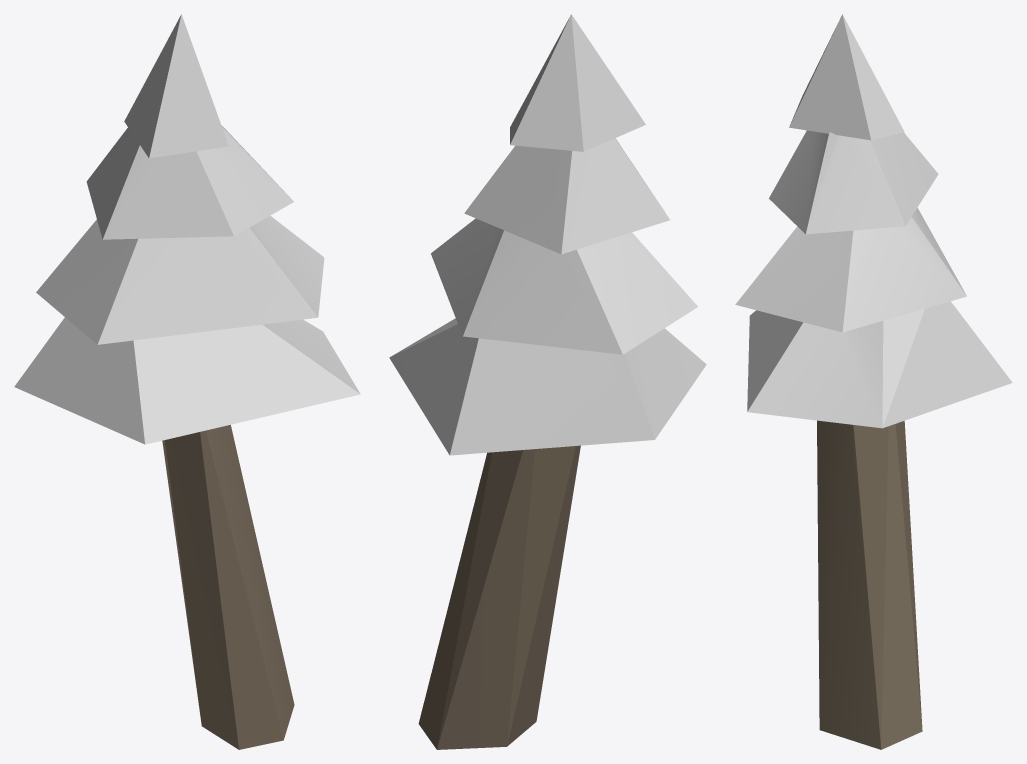
Rendered from Vegetation_Tree_Alpine_Snow_02.fbx.
3 views of the same model, side by side, from view 1: azimuth 30°, elevation 25°; view 2: azimuth 150°, elevation 25°; view 3: azimuth 270°, elevation 25° (orthographic). The views are drawn at different scales.
Parts seen in each view (by area): view 1: Vegetation_Tree_Alpine_Snow_02; view 2: Vegetation_Tree_Alpine_Snow_02; view 3: Vegetation_Tree_Alpine_Snow_02.
Part boxes in pixels (x1,y1,x2,y2): Vegetation_Tree_Alpine_Snow_02: [14, 14, 360, 749]; Vegetation_Tree_Alpine_Snow_02: [389, 14, 706, 749]; Vegetation_Tree_Alpine_Snow_02: [735, 14, 1012, 749].
Size of the model in its own units: 97.36 by 237 by 88.38.
